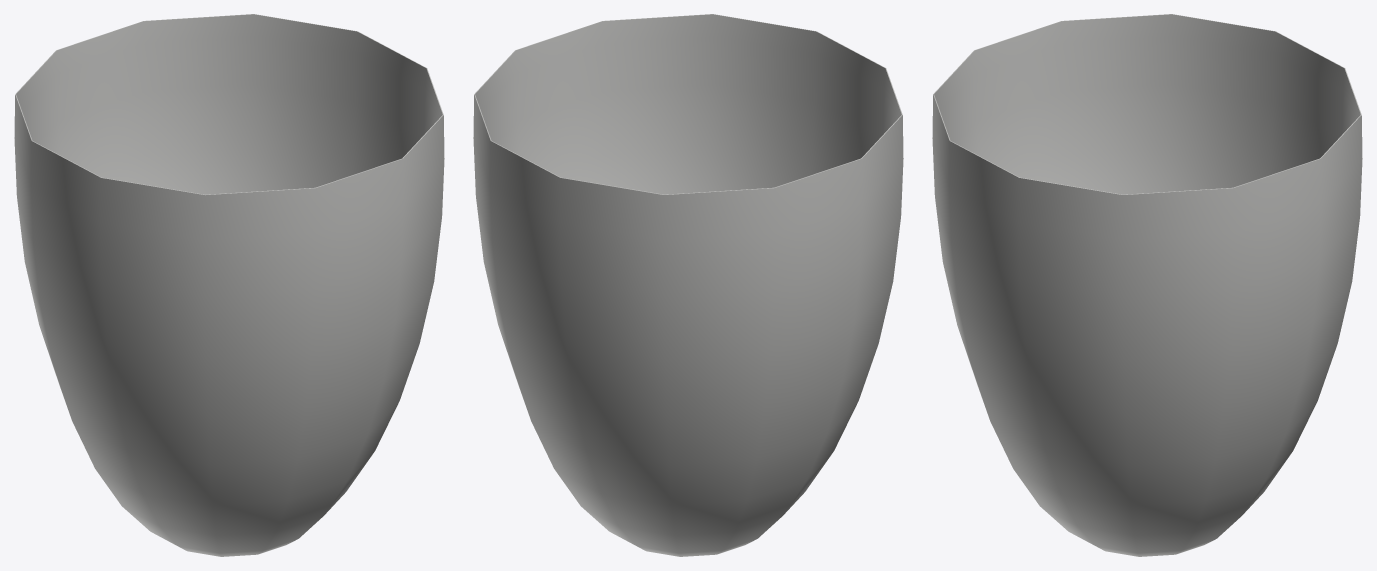
File: SmallWhitePots006.FBX
3 renders of one model, left to right at view 1: azimuth 30°, elevation 25°; view 2: azimuth 150°, elevation 25°; view 3: azimuth 270°, elevation 25°, orthographic.
Visible parts, largest first — view 1: SmallWhitePots006; view 2: SmallWhitePots006; view 3: SmallWhitePots006.
Part boxes in pixels (<box>): SmallWhitePots006: <box>14,14,444,556</box>; SmallWhitePots006: <box>473,14,903,556</box>; SmallWhitePots006: <box>932,14,1362,556</box>.
Bounding box in the file's own units: 0.5404 × 0.5972 × 0.5404.
1 material, 1 textured.
